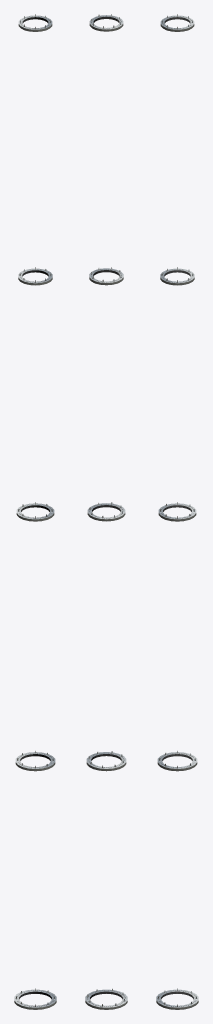
Rendered from shuangkui_neibumoxing_luoshuan_8.glb.
The picture shows the model from 3 angles, left to right: view 1: azimuth 90°, elevation 25°; view 2: azimuth 210°, elevation 25°; view 3: azimuth 270°, elevation 25°; orthographic projection.
Visible parts, largest first — view 1: neibumoxing_luoshuan_8_5, neibumoxing_luoshuan_8_4, neibumoxing_luoshuan_8_3, neibumoxing_luoshuan_8_2, neibumoxing_luoshuan_8_1; view 2: neibumoxing_luoshuan_8_5, neibumoxing_luoshuan_8_4, neibumoxing_luoshuan_8_3, neibumoxing_luoshuan_8_2, neibumoxing_luoshuan_8_1; view 3: neibumoxing_luoshuan_8_5, neibumoxing_luoshuan_8_4, neibumoxing_luoshuan_8_3, neibumoxing_luoshuan_8_2, neibumoxing_luoshuan_8_1.
Part boxes in pixels (box(x1,y1,x2,y2)): neibumoxing_luoshuan_8_5: box(14, 988, 56, 1009); neibumoxing_luoshuan_8_4: box(15, 750, 55, 771); neibumoxing_luoshuan_8_3: box(16, 502, 54, 521); neibumoxing_luoshuan_8_2: box(18, 267, 52, 285); neibumoxing_luoshuan_8_1: box(18, 14, 52, 31); neibumoxing_luoshuan_8_5: box(85, 988, 127, 1009); neibumoxing_luoshuan_8_4: box(86, 751, 126, 771); neibumoxing_luoshuan_8_3: box(87, 502, 125, 521); neibumoxing_luoshuan_8_2: box(89, 267, 123, 285); neibumoxing_luoshuan_8_1: box(89, 14, 123, 31); neibumoxing_luoshuan_8_5: box(156, 988, 198, 1009); neibumoxing_luoshuan_8_4: box(157, 750, 197, 771); neibumoxing_luoshuan_8_3: box(158, 502, 196, 521); neibumoxing_luoshuan_8_2: box(160, 267, 194, 285); neibumoxing_luoshuan_8_1: box(160, 14, 194, 31).
Size of the model in its own units: 324 by 8110 by 319.
1 material, 1 textured.
